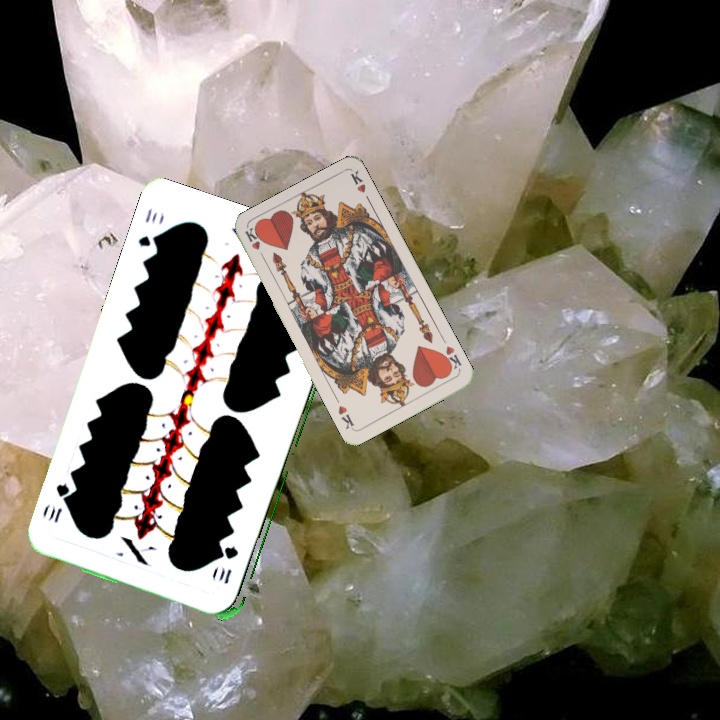G10: (134, 204, 163, 252), (215, 542, 241, 587)
HK: (241, 224, 268, 263), (438, 342, 464, 374)
